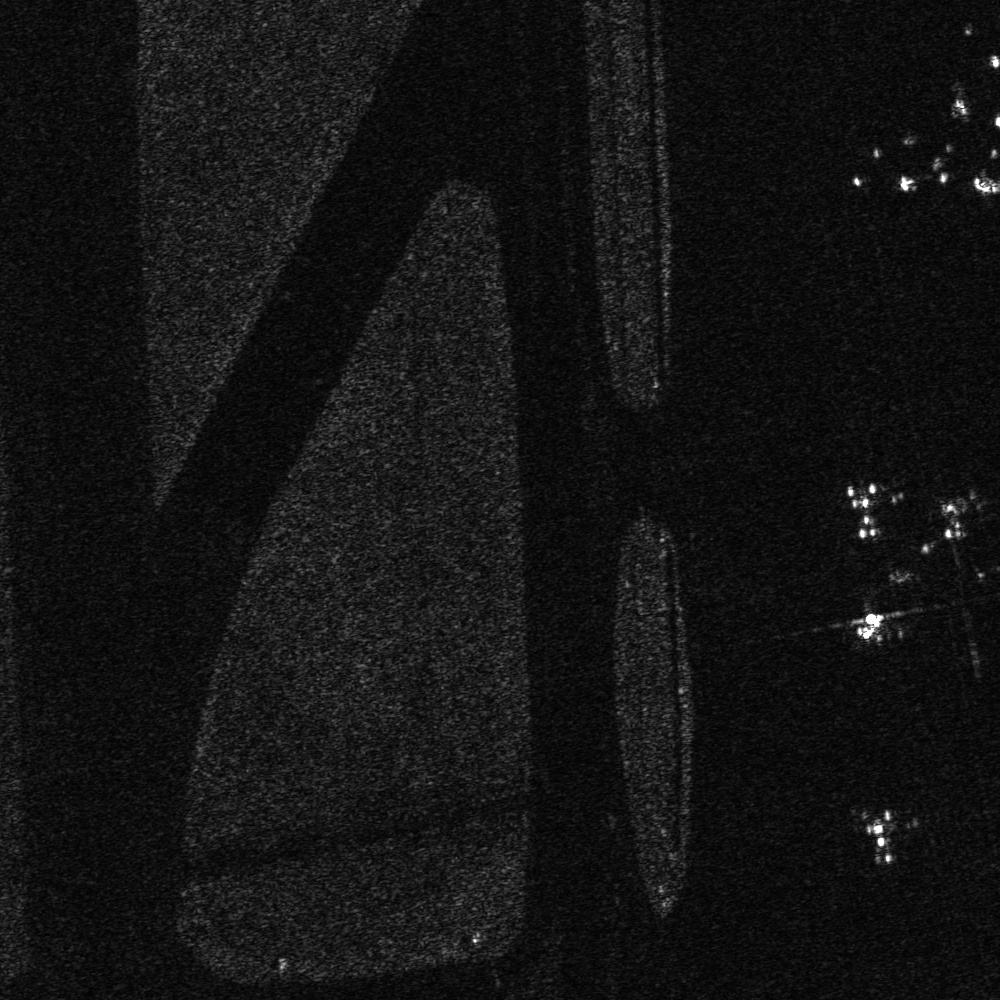ARJ21: (852, 798, 906, 873), (847, 598, 903, 644)
other: (915, 487, 992, 557), (838, 471, 885, 549)
